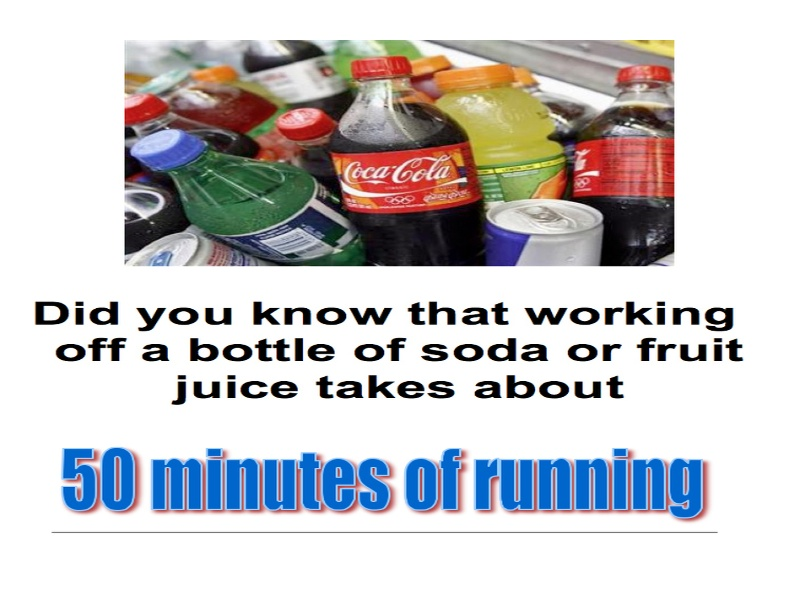Can: (478, 165, 610, 290)
Plastic bottle: (137, 110, 396, 306), (318, 43, 484, 252), (551, 44, 699, 273)
